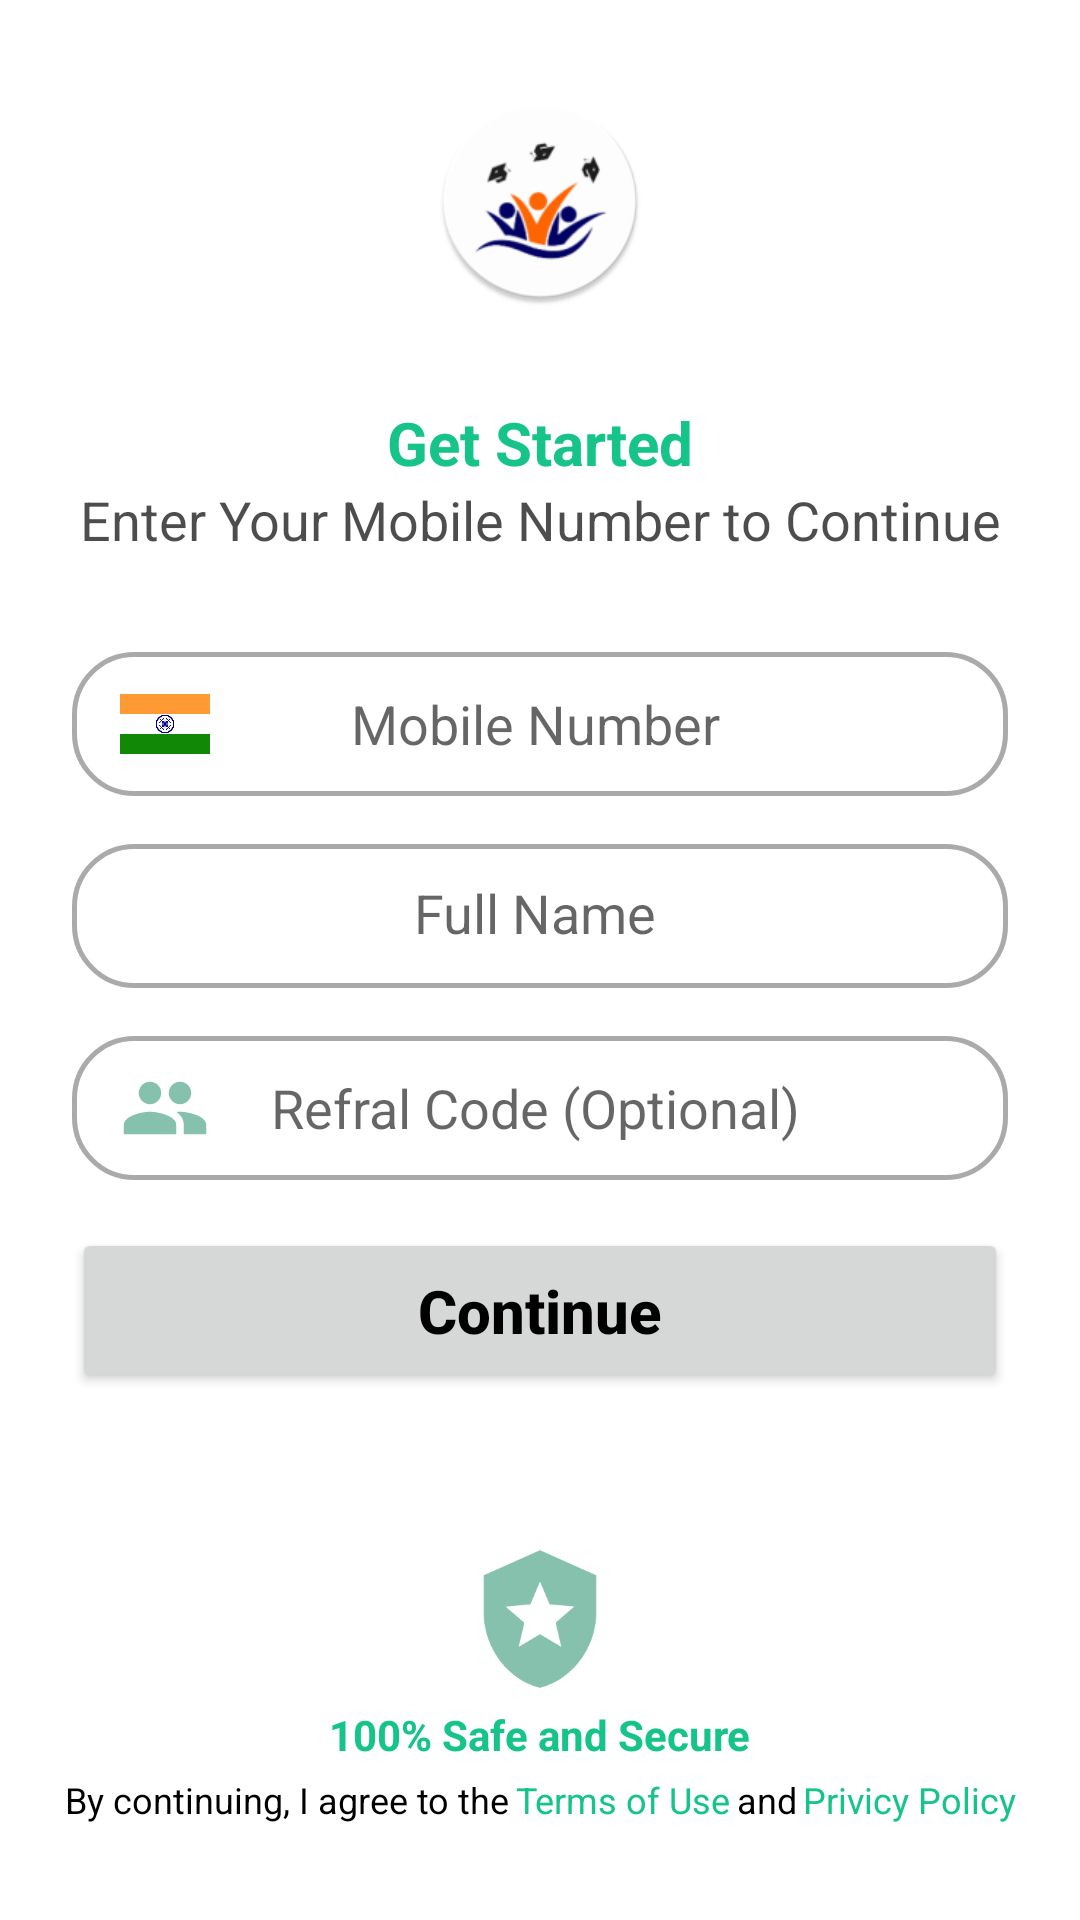

Icons on this 1080 × 1920 Android screen, each with its box as [x1,y1,x2,y2]:
flag: [120,694,210,754]
local police: [483,1550,597,1688]
people: [123,1081,207,1135]
